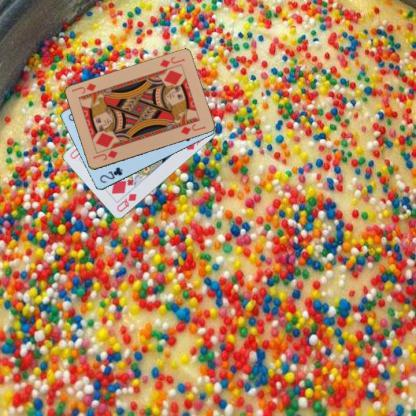2c: (97, 165, 124, 184)
Jd: (157, 54, 186, 70), (90, 148, 119, 162)
Qd: (114, 191, 137, 213)
